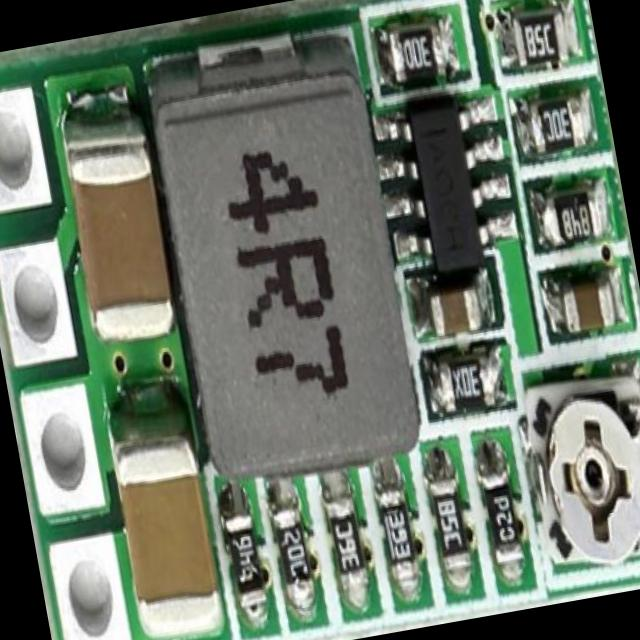IC: (386, 92, 504, 284)
capacitor: (100, 393, 232, 640), (58, 114, 181, 356), (548, 272, 622, 336), (425, 280, 494, 336)
potentiometer: (519, 363, 640, 576)
resistor: (469, 446, 526, 567), (423, 459, 476, 588), (218, 498, 271, 624), (320, 484, 374, 606), (268, 494, 318, 610), (383, 12, 455, 88), (373, 474, 419, 585), (505, 1, 573, 75), (432, 348, 500, 420), (538, 177, 604, 250), (524, 84, 586, 159)
